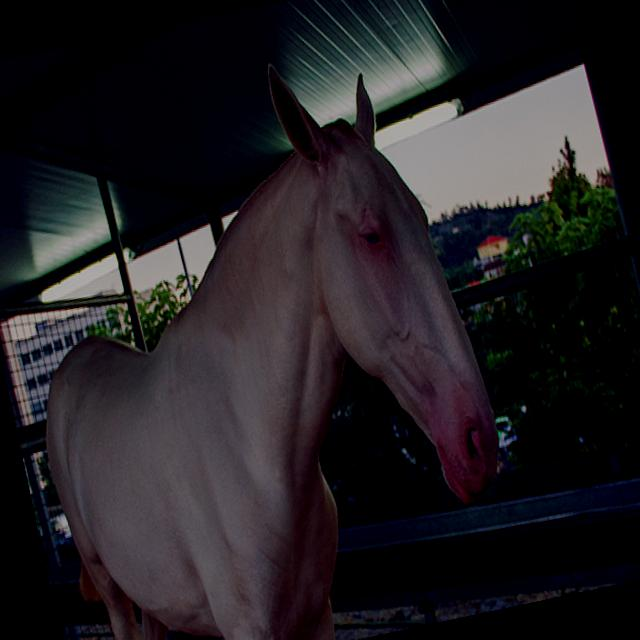Vehicle: (35, 512, 80, 570), (494, 414, 516, 442)
